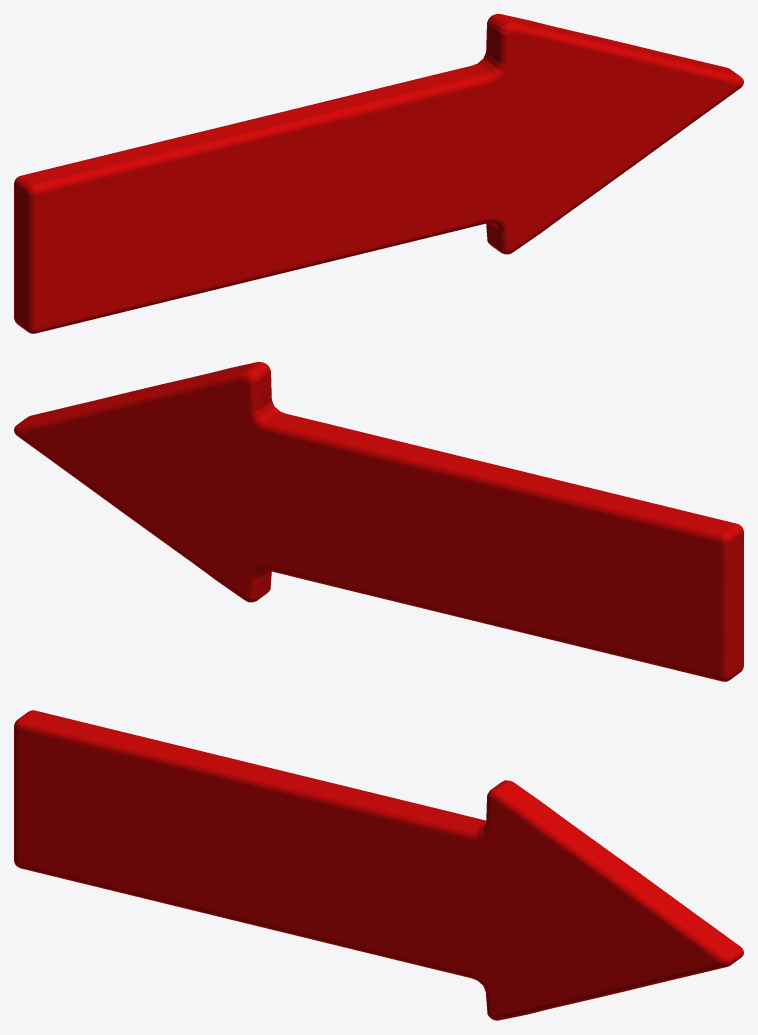
The model's file is Red Straight arrow.gltf.
3 views of the same model, one above another, from view 1: azimuth 30°, elevation 25°; view 2: azimuth 150°, elevation 25°; view 3: azimuth 330°, elevation 25° (orthographic).
Bounding box in the file's own units: 0.4746 × 0.1462 × 0.0219.
Materials: 1 (1 with a texture image).
